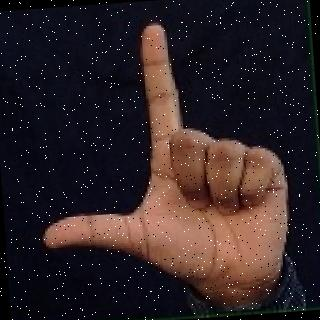L: (36, 1, 304, 314)
